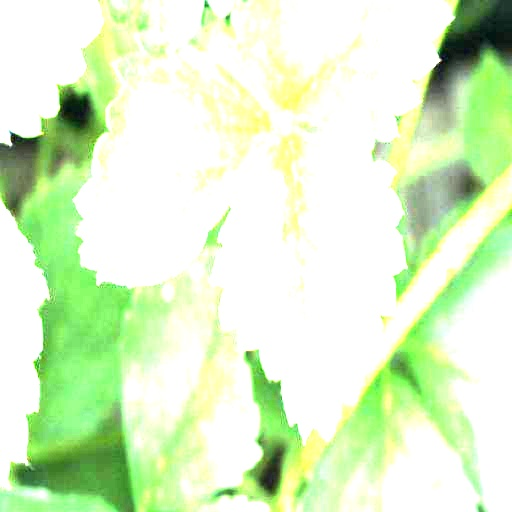Powdery Mildew Leaf: (209, 132, 408, 448), (72, 23, 280, 289), (229, 0, 455, 152)
